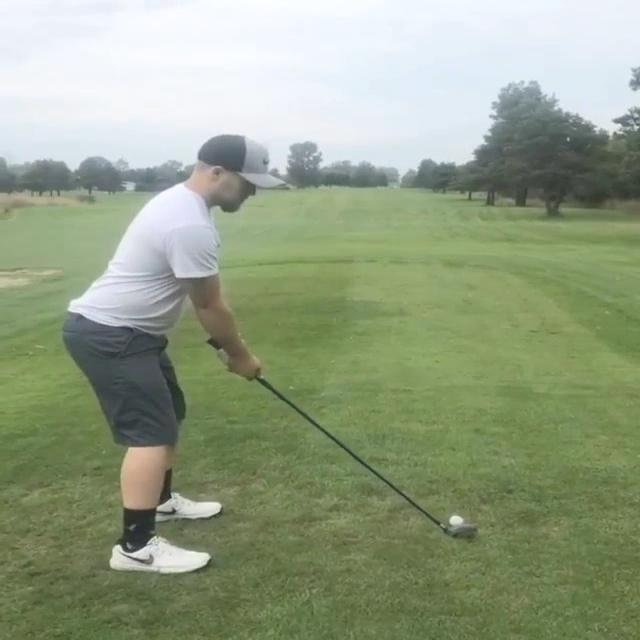golf ball: (450, 516, 464, 528)
golf club-handle: (207, 339, 480, 540)
golf club-head: (448, 525, 480, 539)
